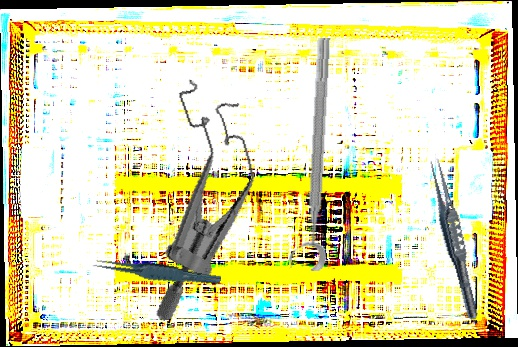Fixation Ring: (285, 36, 338, 272)
Speculum: (100, 68, 290, 323)
Tissue Forceps: (422, 154, 486, 323), (91, 248, 222, 295)
